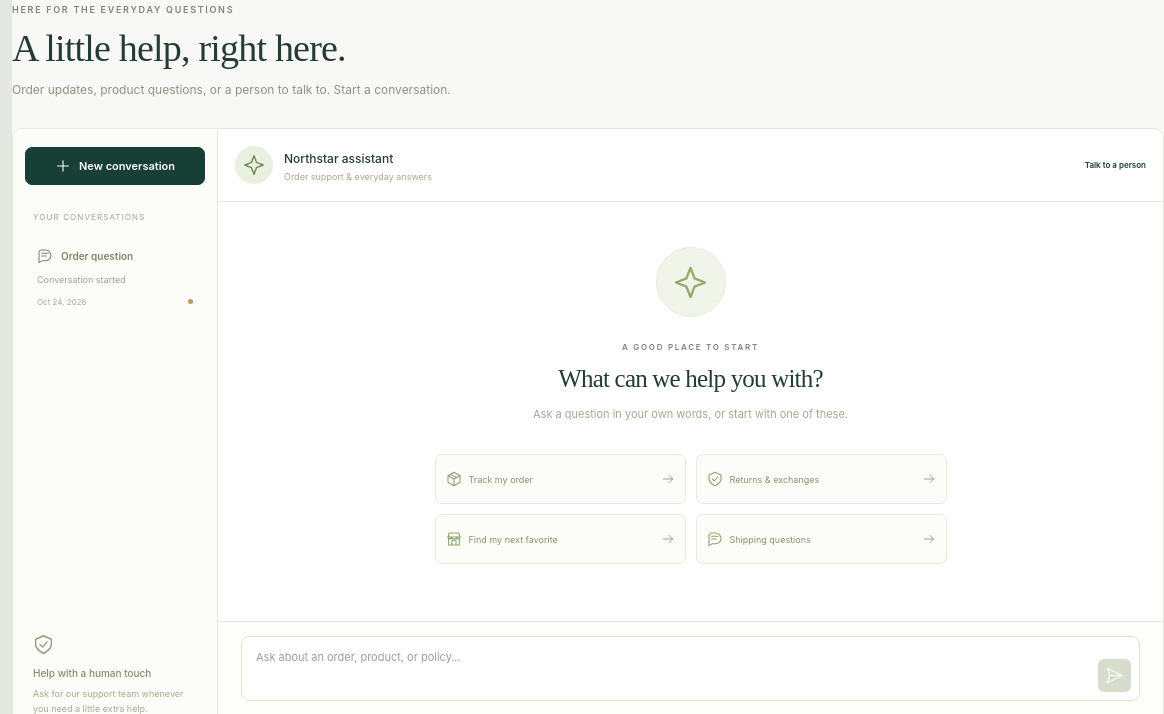
Test: support conversation reliability › labels human ownership and keeps customer messages available for staff
What coordinates should you click on to do the following:
click the button "Order question Conversation started Oct 24, 2026"
I would click on:
 (115, 277)
Its box is [25, 234, 205, 321].
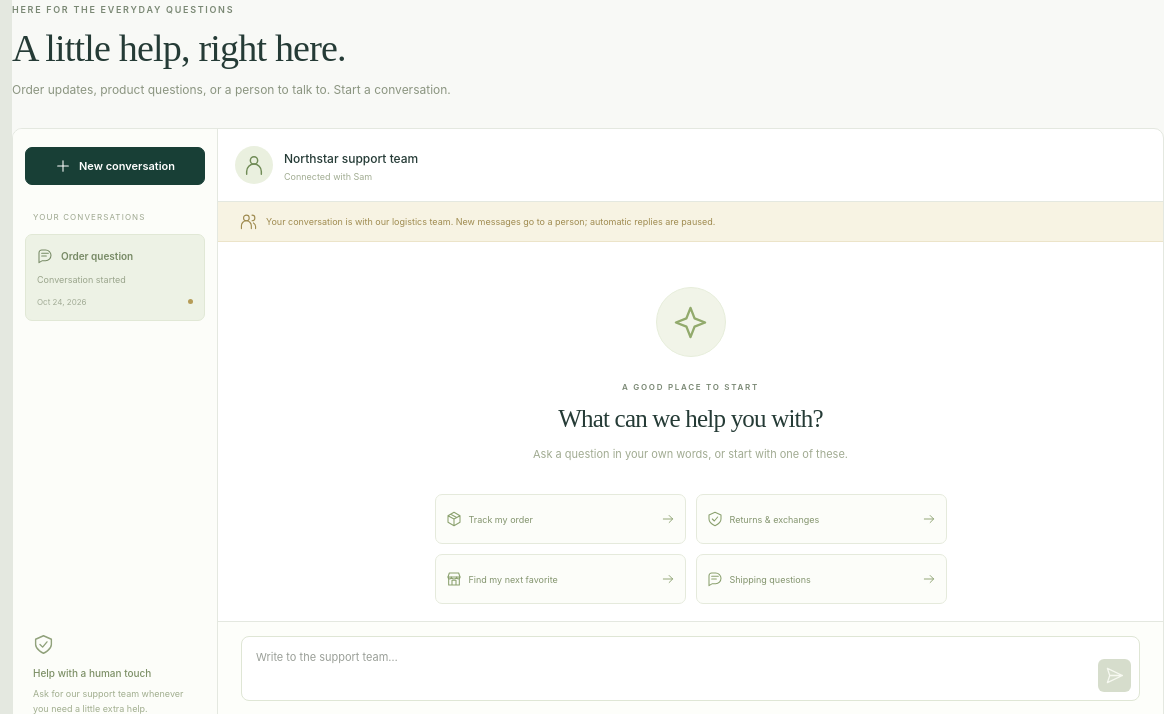
Expected: the text "automatic replies are paused" is shown, [427, 216, 715, 227]
Expected: the text "Connected with Sam" is shown, [284, 171, 372, 182]
Expected: the button "Talk to a person" is gone
